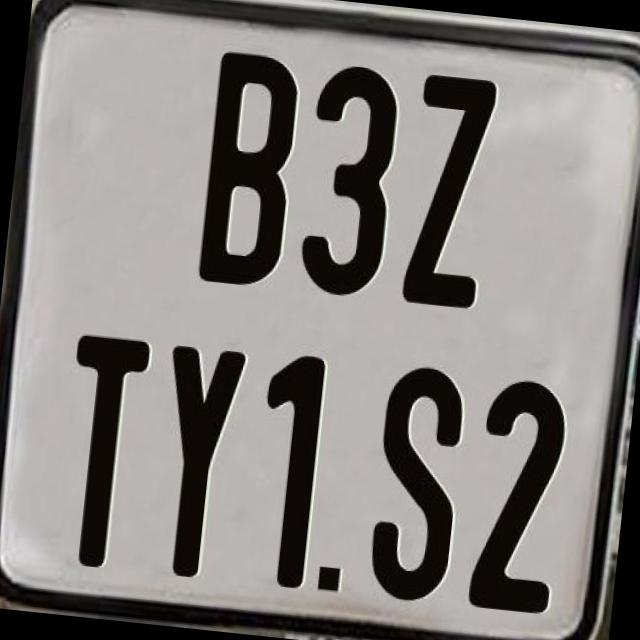1: (242, 352, 322, 592)
2: (463, 374, 574, 612)
3: (295, 59, 408, 296)
B: (192, 49, 297, 296)
S: (364, 360, 466, 604)
T: (53, 333, 157, 575)
Y: (148, 340, 254, 579)
Z: (400, 72, 504, 310)
